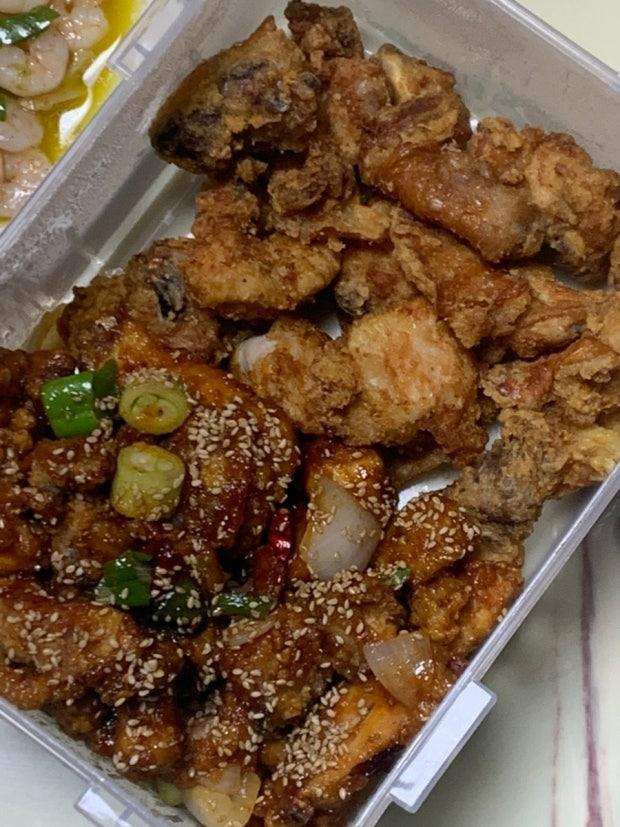Lunch Box: (0, 0, 619, 826), (0, 0, 149, 229)
